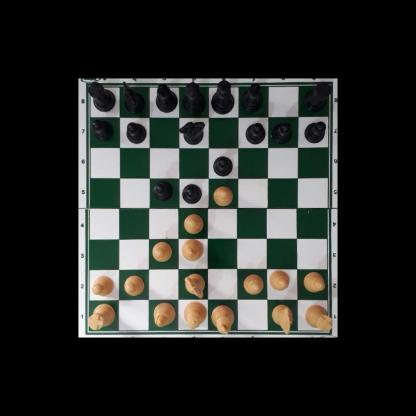black-bishop: (240, 81, 263, 113), (155, 83, 177, 112)
black-king: (210, 79, 234, 116)
black-knight: (123, 80, 144, 113), (181, 120, 204, 144)
black-pawn: (304, 120, 326, 143), (212, 154, 234, 176), (92, 119, 113, 141), (125, 120, 145, 143), (272, 121, 292, 143), (245, 123, 265, 144), (153, 180, 173, 201), (182, 183, 202, 203)
black-queen: (182, 82, 206, 113)
black-rook: (87, 81, 115, 110), (303, 82, 329, 111)
white-bishop: (153, 301, 174, 328), (181, 239, 203, 261)
white-king: (211, 303, 234, 334)
white-knight: (272, 303, 293, 334), (184, 272, 206, 298)
white-pawn: (90, 275, 115, 296), (303, 272, 326, 293), (212, 185, 234, 206), (123, 275, 144, 296), (242, 273, 263, 294), (269, 270, 290, 291), (151, 241, 172, 262), (183, 214, 203, 235)
white-queen: (183, 301, 206, 329)
white-rook: (305, 304, 333, 331), (87, 303, 115, 329)
